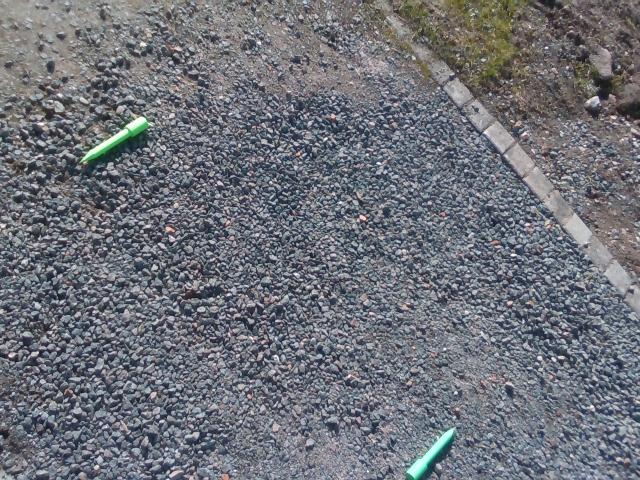Probe: (75, 113, 152, 168), (403, 420, 461, 480)
